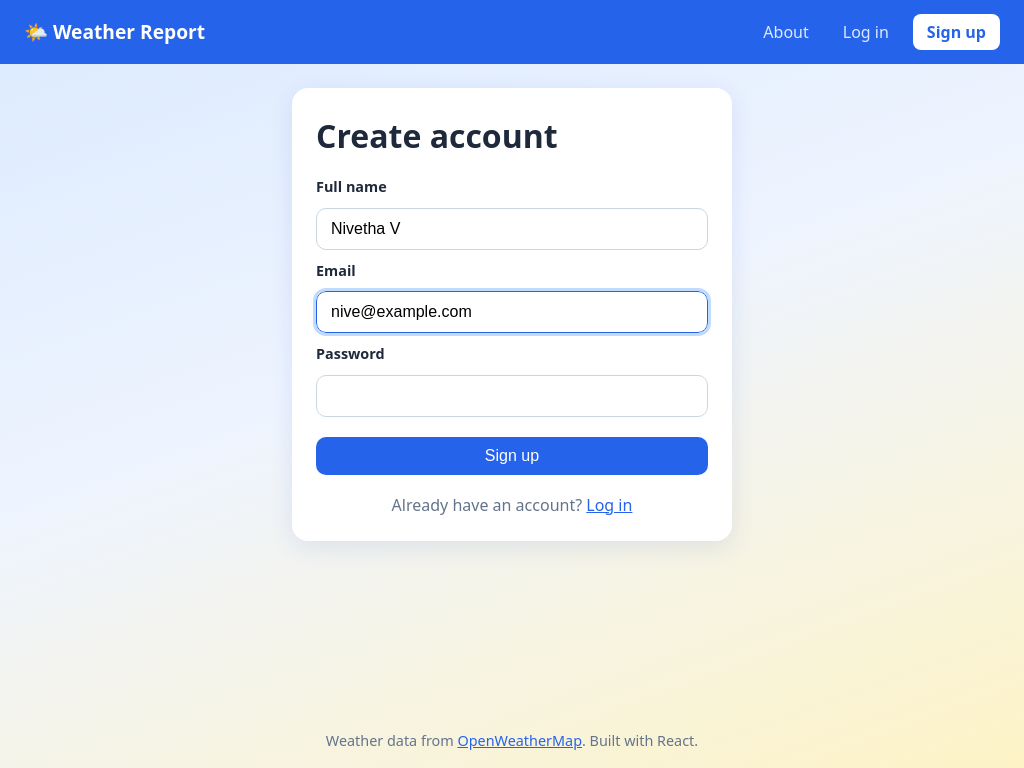
Test case: Weather Report app › registers, shows home, logs out, and logs back in
Earlier steps of the test are not shown.
Type "secret123" into the password field labelled "Password" at (512, 396), box [316,375,708,417]
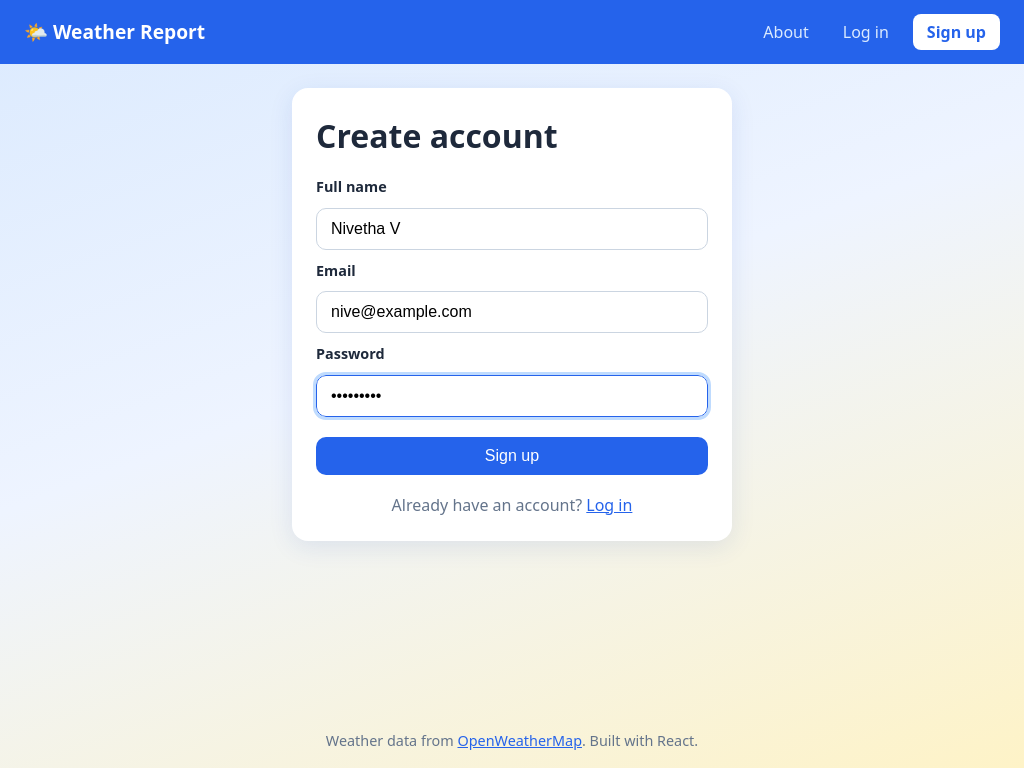
Click the button "Sign up" at (512, 456), box [316,437,708,475]
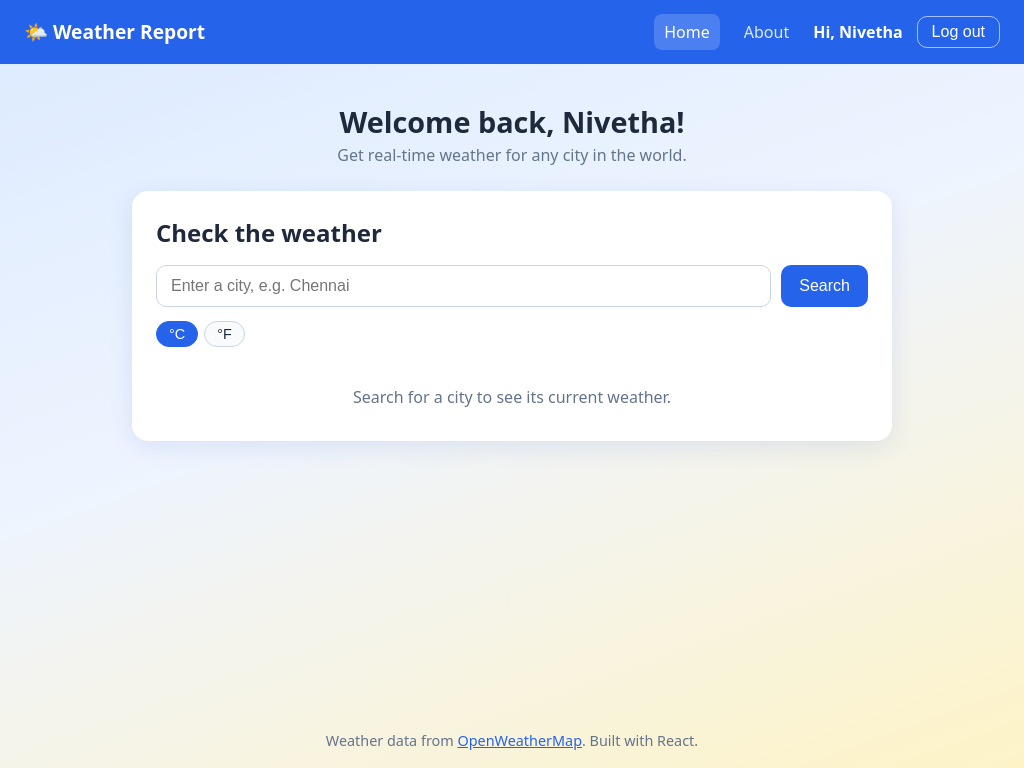
Check: the heading "Welcome back, Nivetha!" is shown, box [339,102,684,141]
Click the button "Log out" at (958, 32), box [917,16,1000,48]
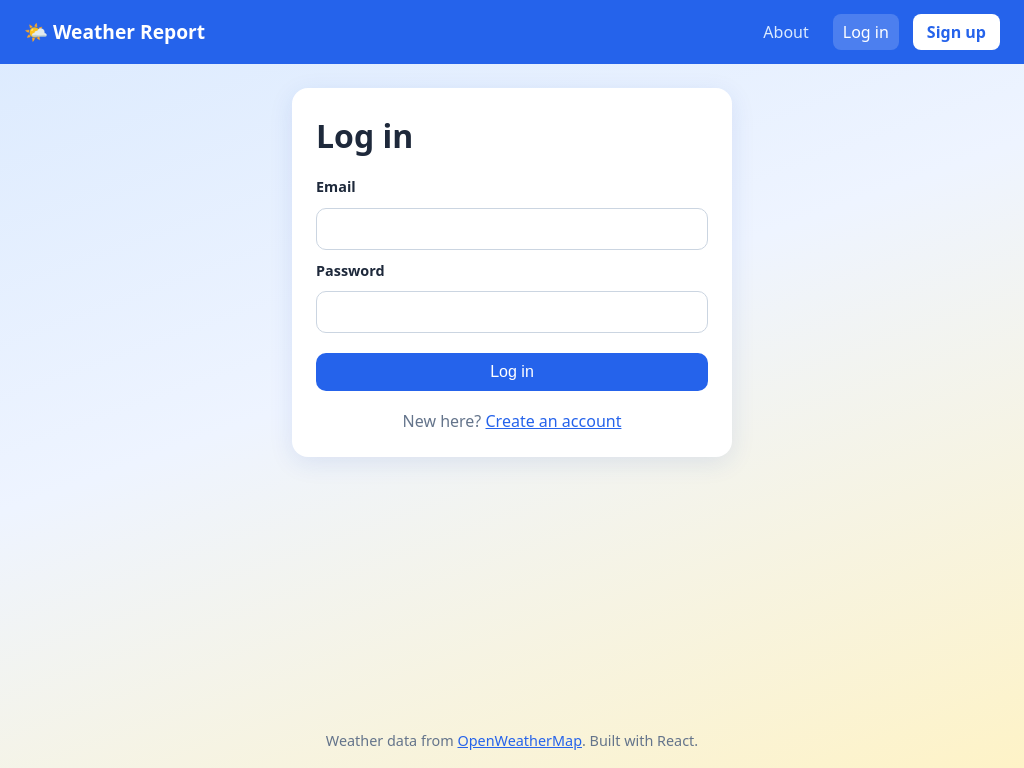
Type "nive@example.com" into the field labelled "Email" at (512, 229), box [316,208,708,250]
Type "wrong" into the password field labelled "Password" at (512, 312), box [316,291,708,333]
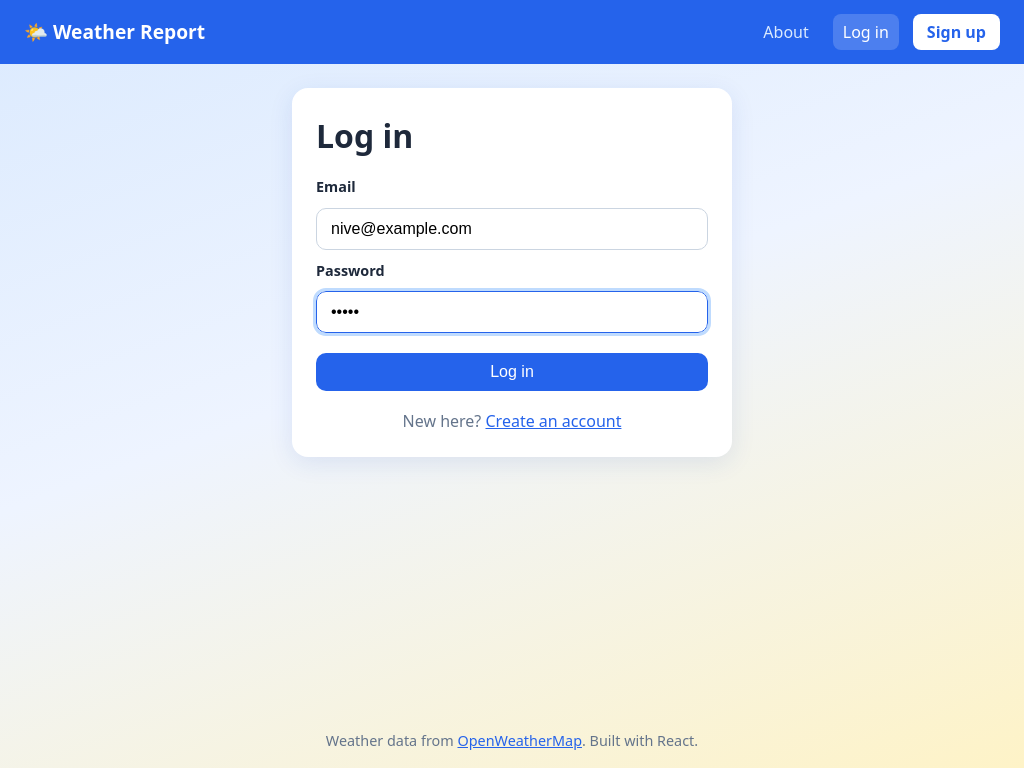
Click the button "Log in" at (512, 372), box [316,353,708,391]
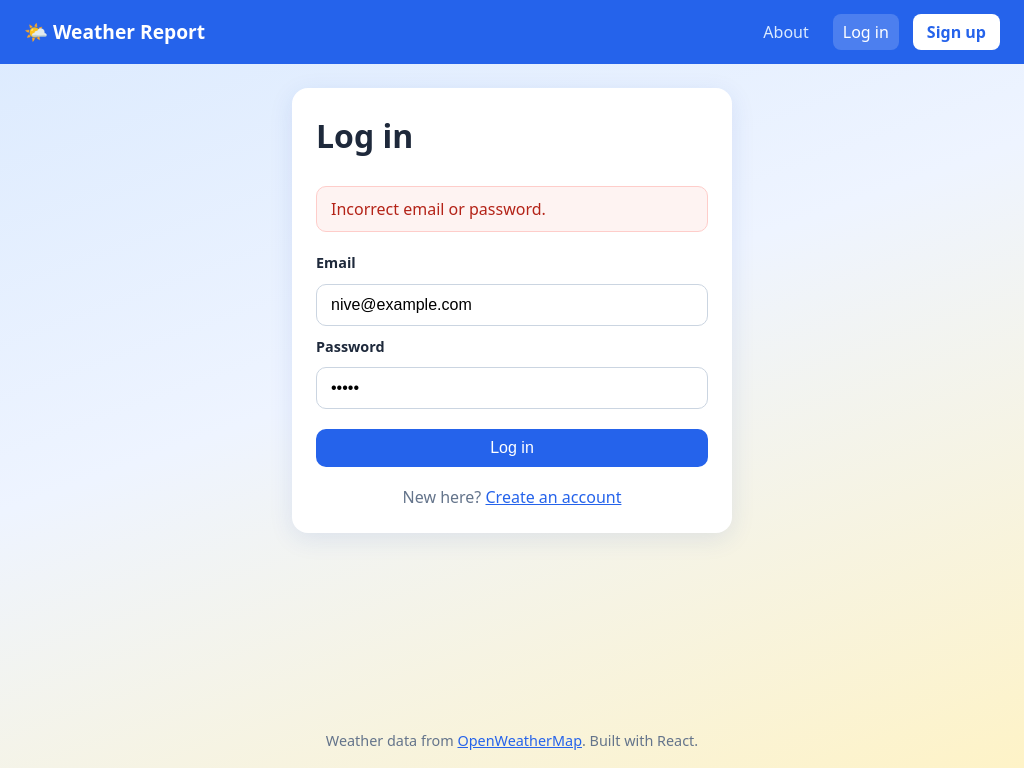
Check: the text "Incorrect email or password." is shown, box [316,186,708,232]
Type "secret123" into the password field labelled "Password" at (512, 388), box [316,367,708,409]
Click the button "Log in" at (512, 448), box [316,429,708,467]
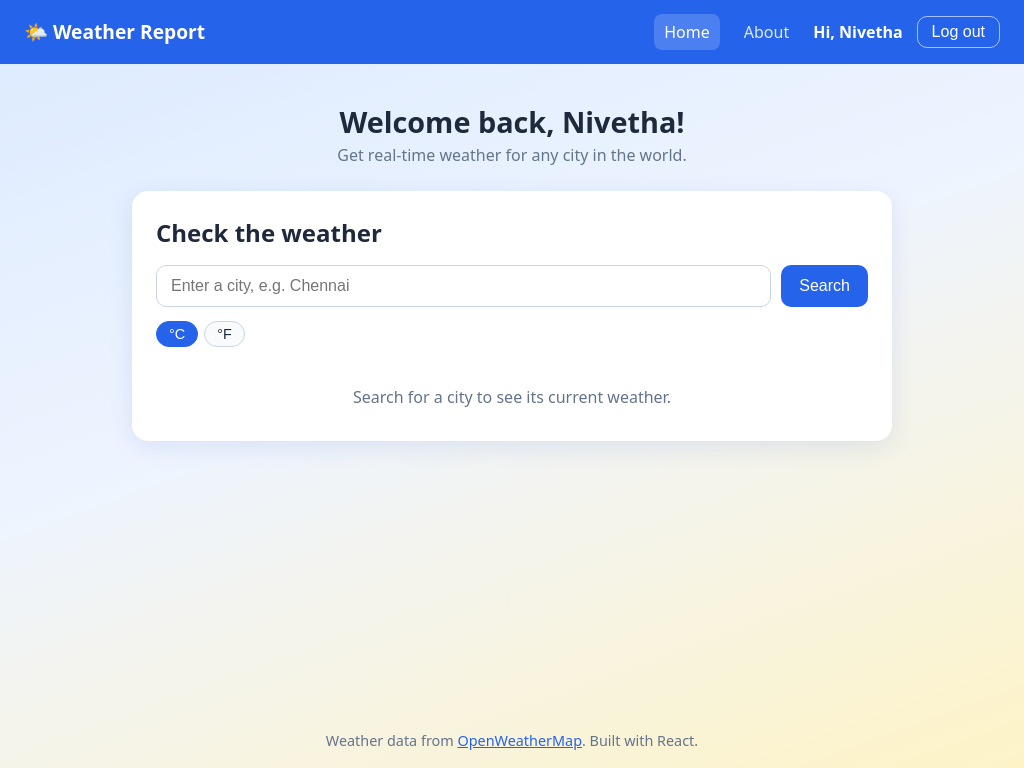
Check: the heading "Welcome back, Nivetha!" is shown, box [339,102,684,141]
